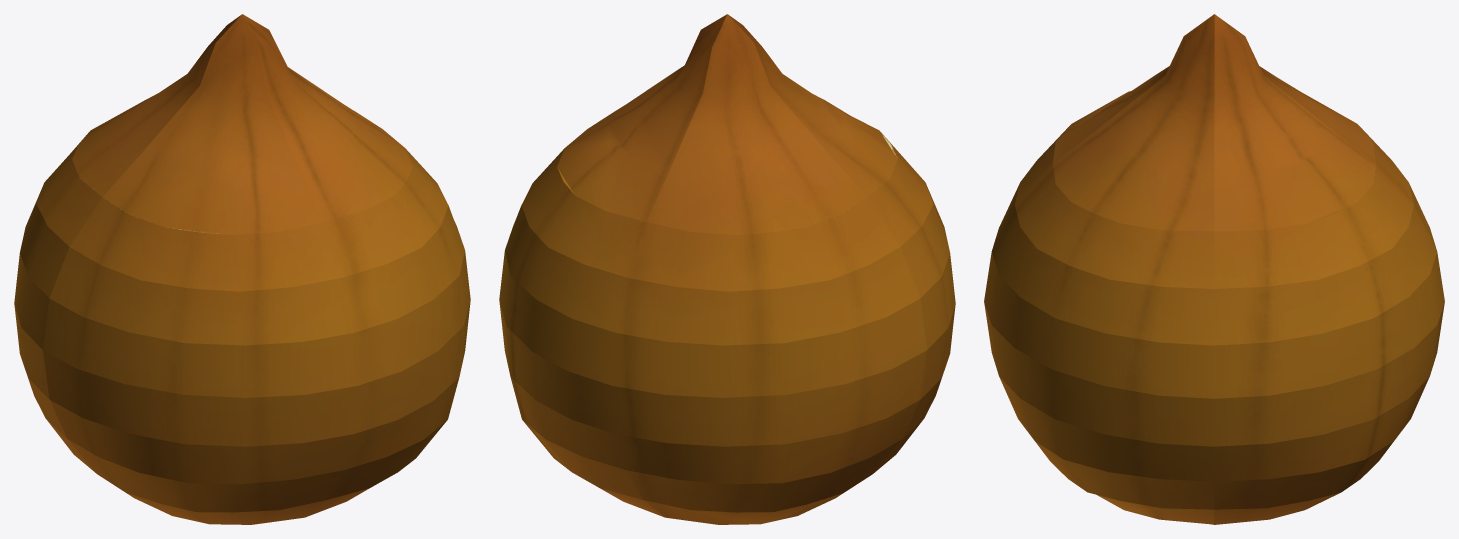
File: OnionSliced.glb
The picture shows the model from 3 angles, left to right: view 1: azimuth 30°, elevation 25°; view 2: azimuth 150°, elevation 25°; view 3: azimuth 270°, elevation 25°; orthographic projection.
Visible parts, largest first — view 1: Onion_Sliced; view 2: Onion_Sliced; view 3: Onion_Sliced.
Part boxes in pixels (left/top/right/bottom): Onion_Sliced: left=14, top=14, right=470, bottom=524; Onion_Sliced: left=499, top=14, right=955, bottom=524; Onion_Sliced: left=984, top=14, right=1444, bottom=524.
Bounding box in the file's own units: 0.7651 × 0.9037 × 0.7651.
1 material, 1 textured.
